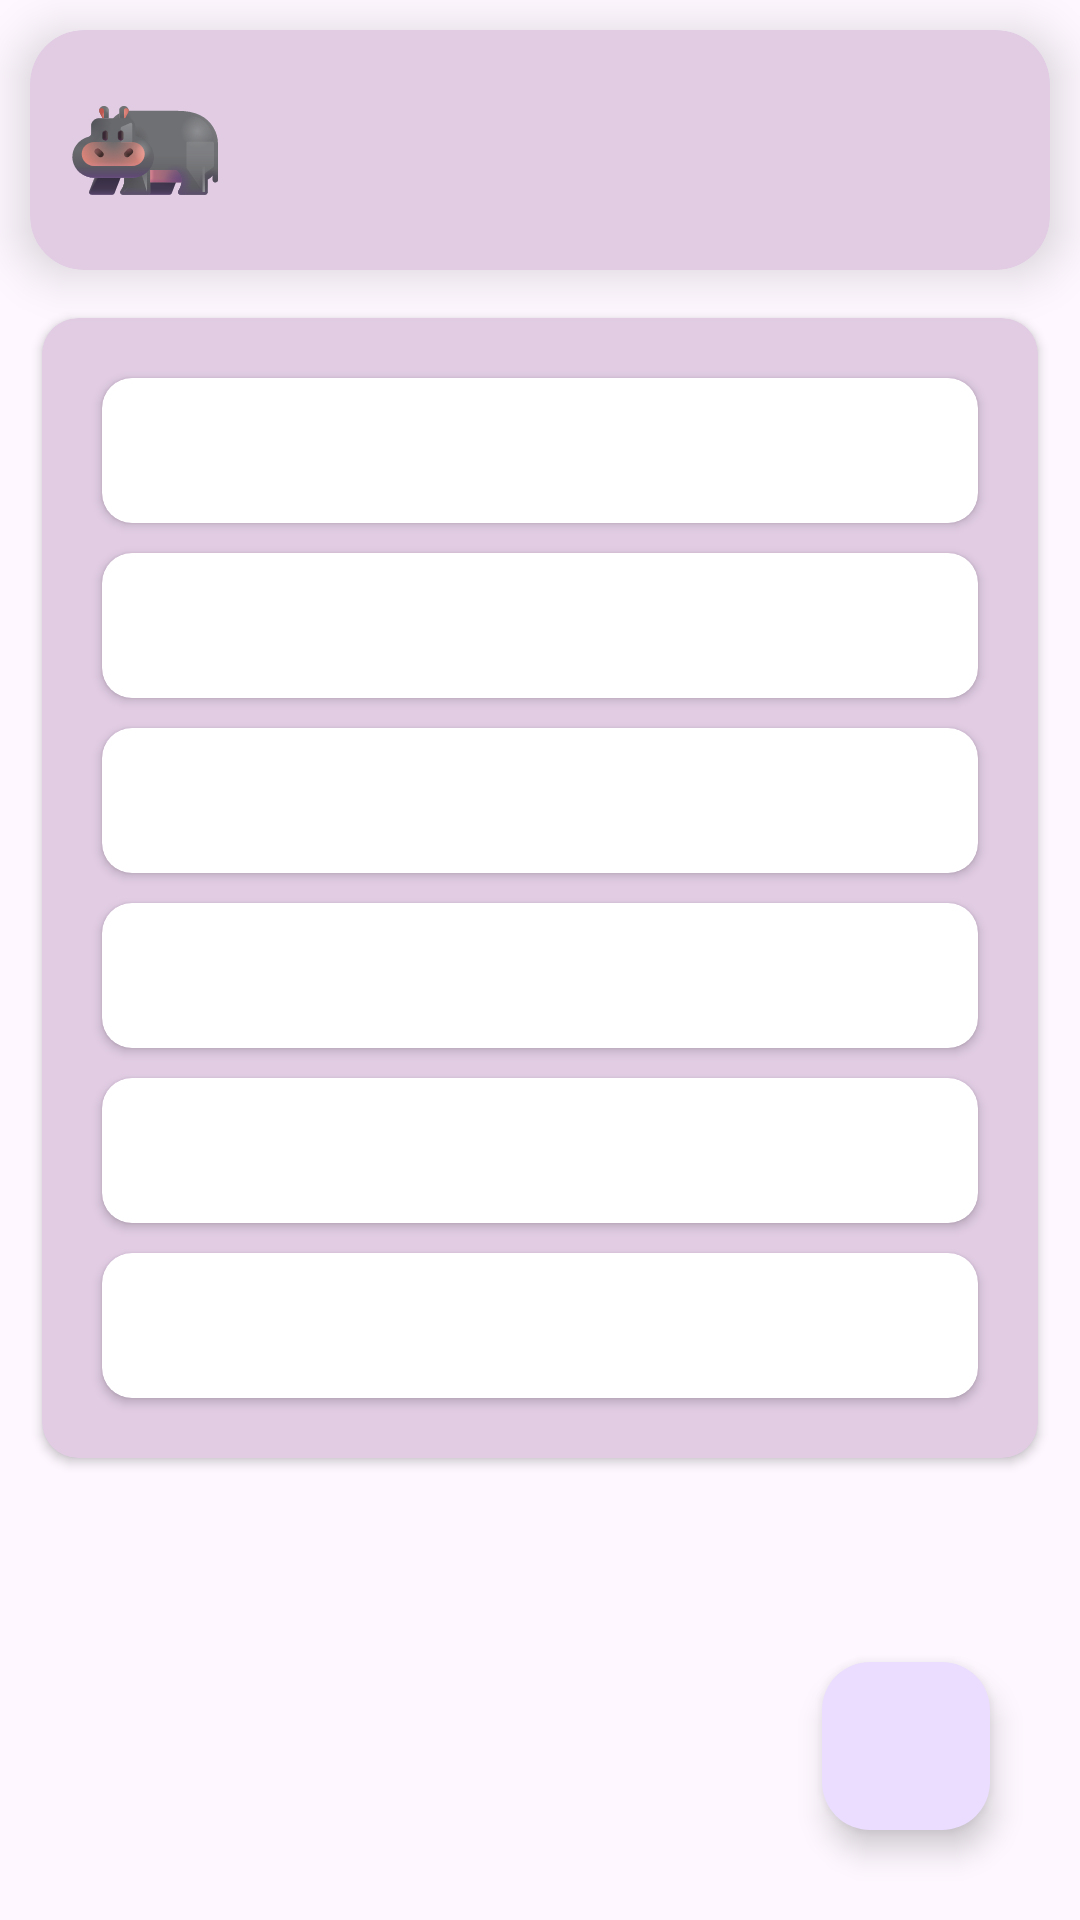

Icons on this 1080px x 1920px Android screen, each with its box as [x1=x1, y1=y1, x2=x2, y2=y2]:
begemot: [x1=72, y1=106, x2=218, y2=195]
